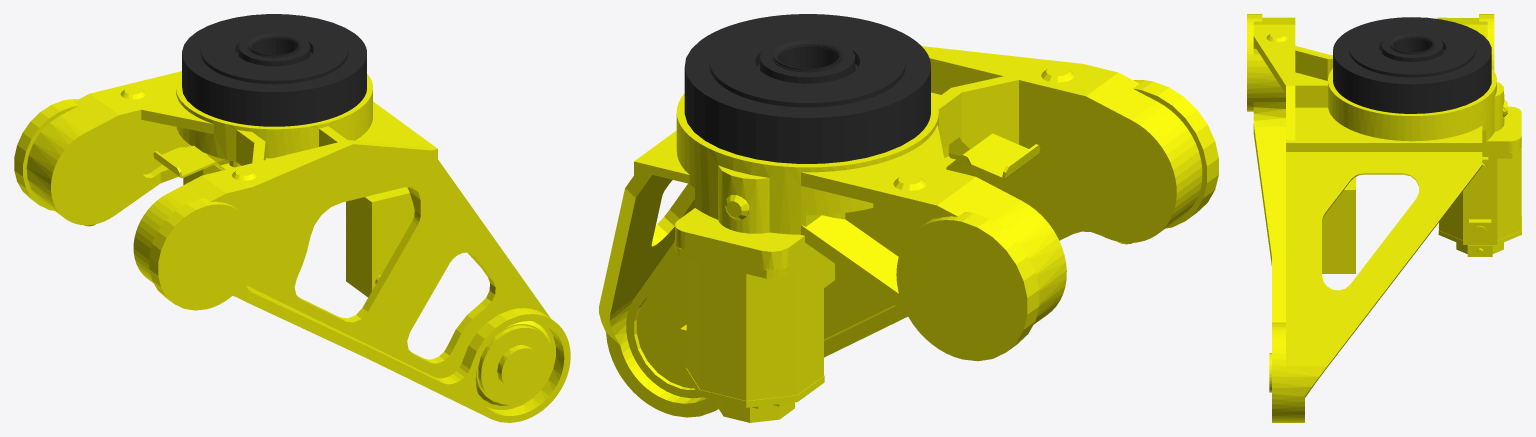
The picture shows the model from 3 angles, left to right: view 1: azimuth 30°, elevation 25°; view 2: azimuth 150°, elevation 25°; view 3: azimuth 270°, elevation 25°; orthographic projection. The views are drawn at different scales.
Visible parts, largest first — view 1: node; view 2: node; view 3: node.
Boxes of the visible parts, x1,y1,x2,y2 form: node: (14,14,570,422); node: (599,14,1218,422); node: (1247,14,1521,422).
Size of the model in its own units: 665 by 532 by 432.
